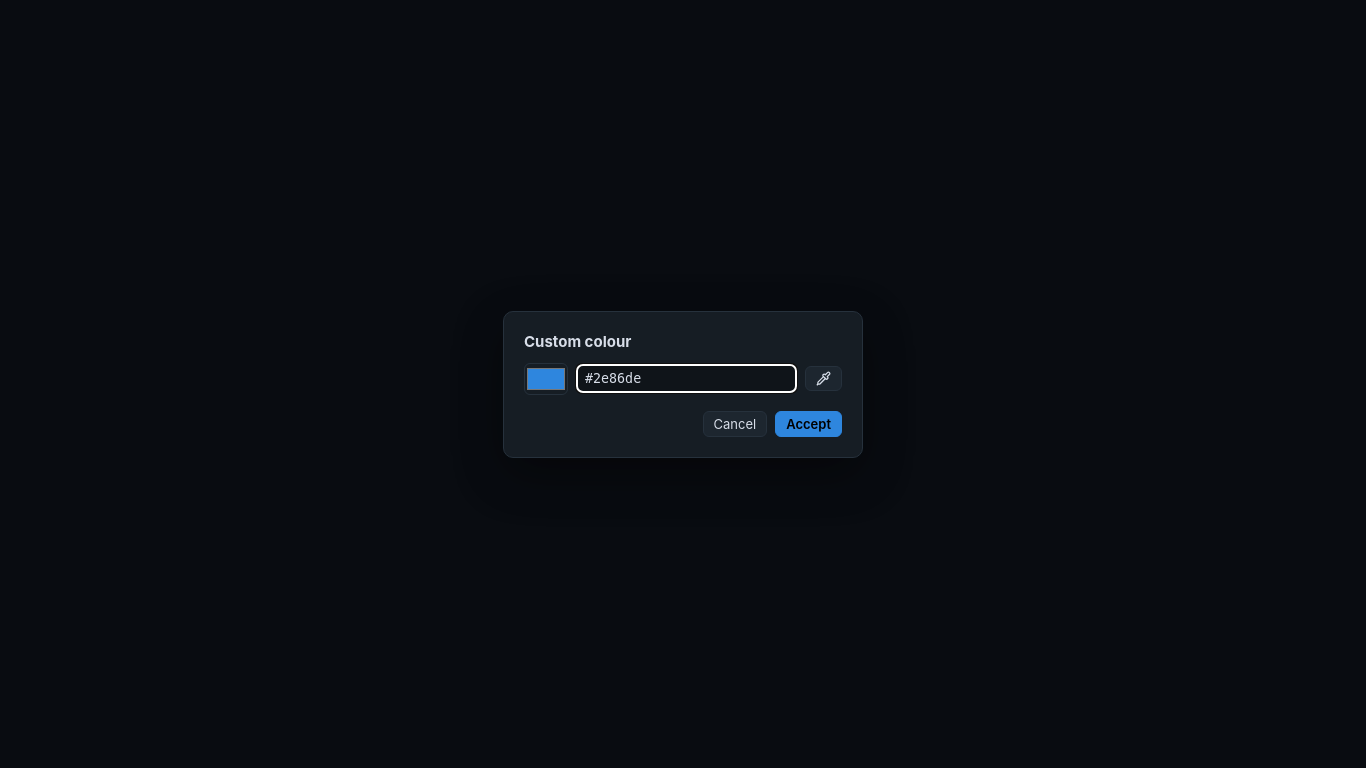
Test case: custom colour › says why picking from the screen failed
Click the button named "Pick from the screen". click: coordinates (824, 378)
box: [805,366,842,391]
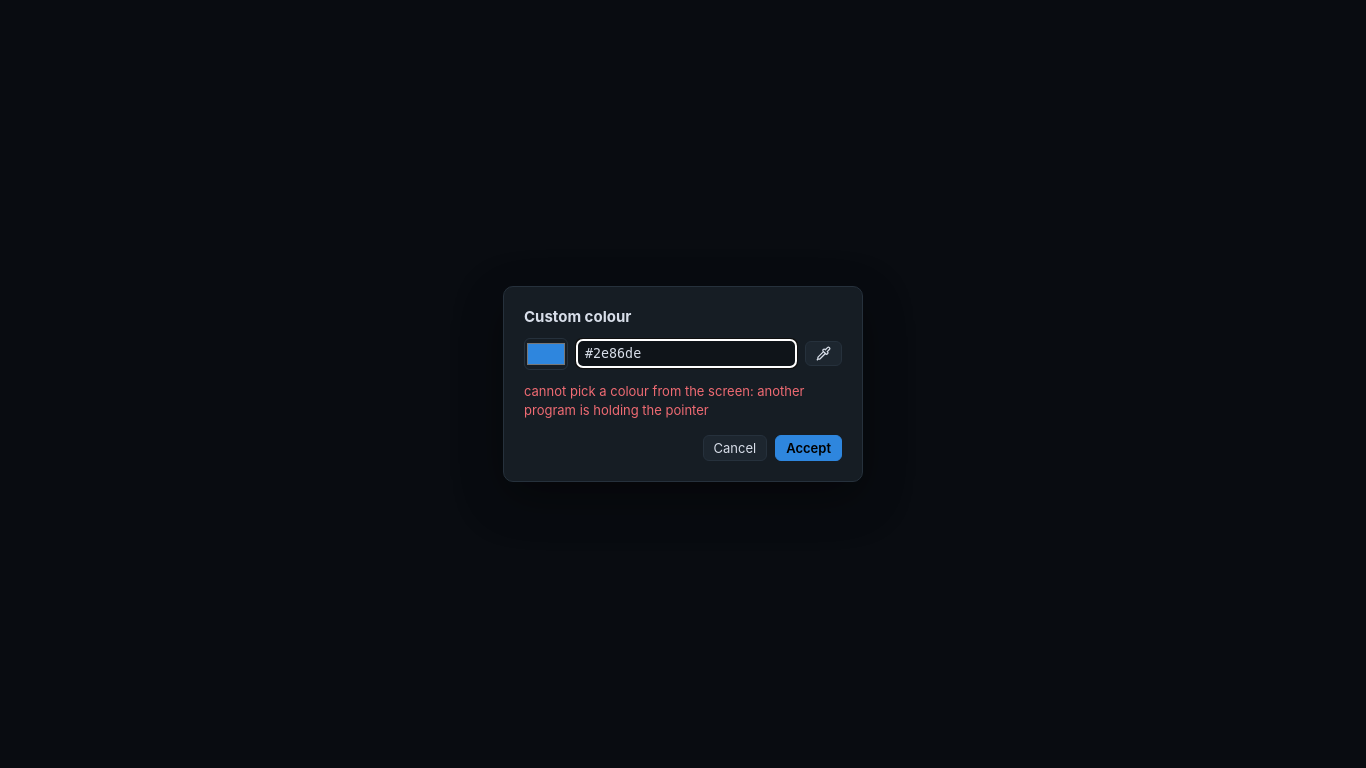
Check: the message reads "cannot pick a colour from the screen: another program is holding the pointer", box [524,383,804,418]
